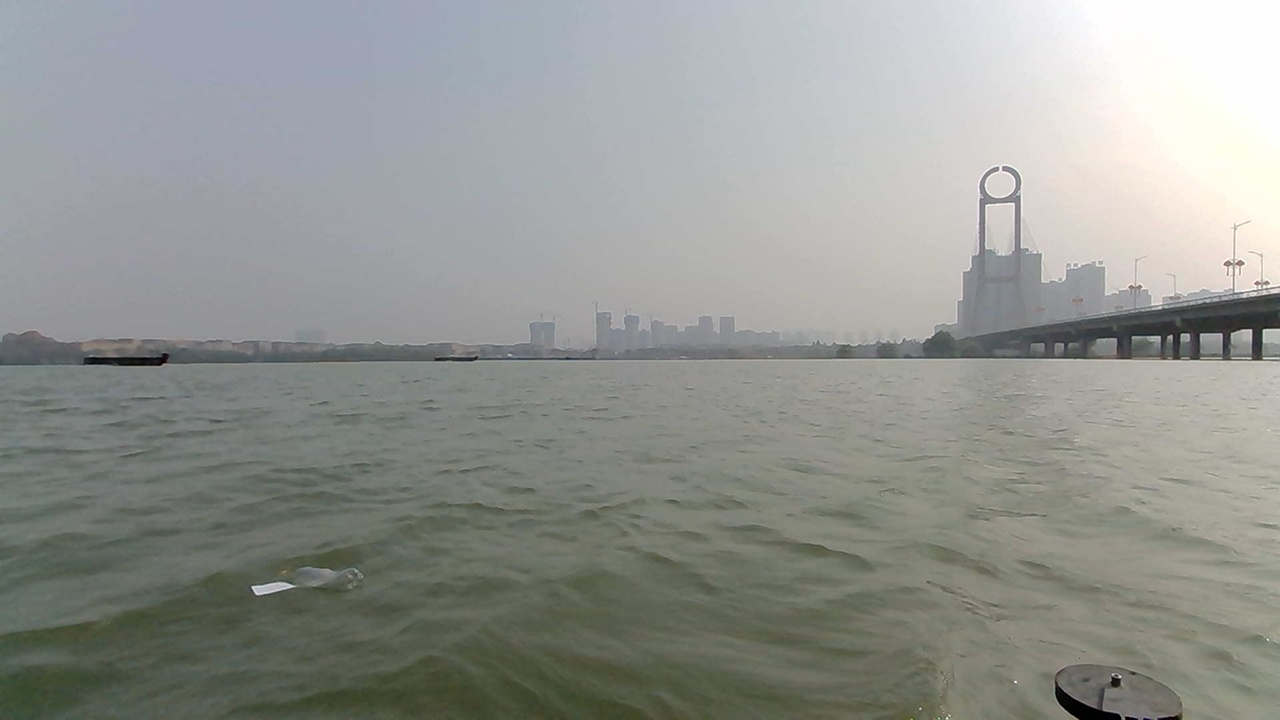bottle: (212, 551, 362, 619)
